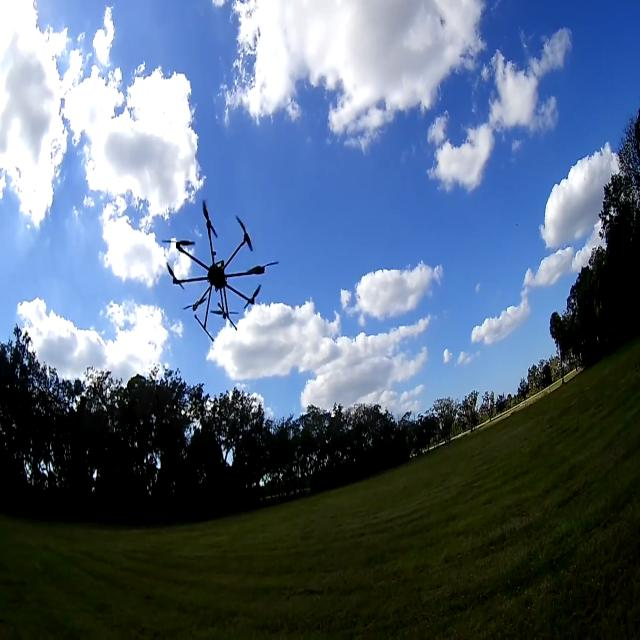drone: (153, 193, 273, 347)
